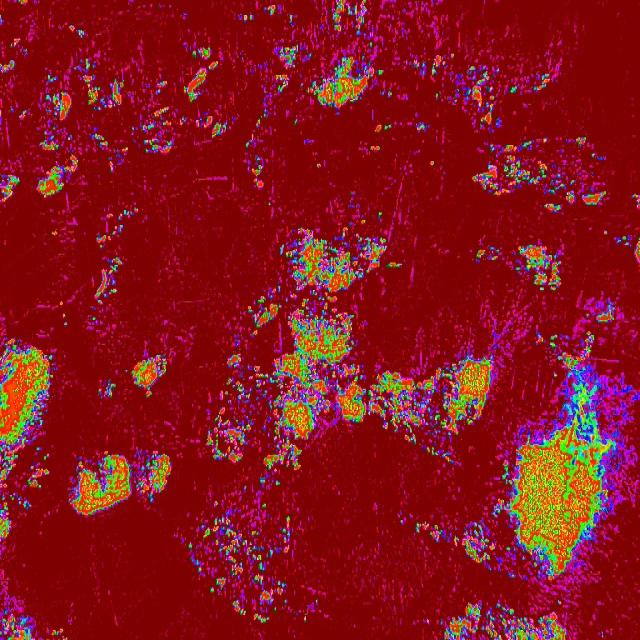fire: (262, 313, 498, 475), (505, 369, 640, 601), (188, 475, 306, 627), (278, 222, 407, 310), (1, 331, 53, 545), (471, 132, 610, 212), (446, 61, 552, 129), (406, 500, 506, 571), (205, 377, 278, 472), (68, 449, 171, 516), (436, 597, 574, 640), (471, 244, 571, 294), (142, 104, 238, 156), (310, 52, 395, 108), (227, 286, 276, 374), (73, 59, 126, 121), (359, 116, 431, 159), (38, 156, 83, 212), (530, 331, 601, 365), (90, 252, 124, 322), (38, 91, 71, 161), (92, 206, 146, 245), (90, 130, 132, 179), (185, 48, 223, 100), (131, 351, 172, 399), (2, 584, 33, 640), (327, 0, 370, 39), (404, 46, 454, 78), (243, 104, 271, 154), (274, 42, 313, 72), (1, 168, 24, 208), (584, 299, 624, 321), (248, 158, 268, 196), (150, 75, 172, 106), (613, 232, 640, 256), (64, 21, 89, 45), (98, 375, 120, 401), (7, 101, 28, 128), (58, 294, 69, 338), (264, 3, 287, 22), (629, 185, 640, 224), (274, 75, 295, 94), (47, 625, 68, 640), (239, 12, 258, 28), (1, 56, 16, 76), (15, 0, 38, 11), (44, 72, 58, 88), (152, 4, 168, 18), (424, 159, 442, 171), (432, 90, 446, 104), (50, 229, 62, 245), (314, 159, 325, 176), (291, 114, 302, 131), (11, 39, 23, 49), (377, 206, 385, 219), (184, 12, 192, 20), (603, 228, 609, 238)
